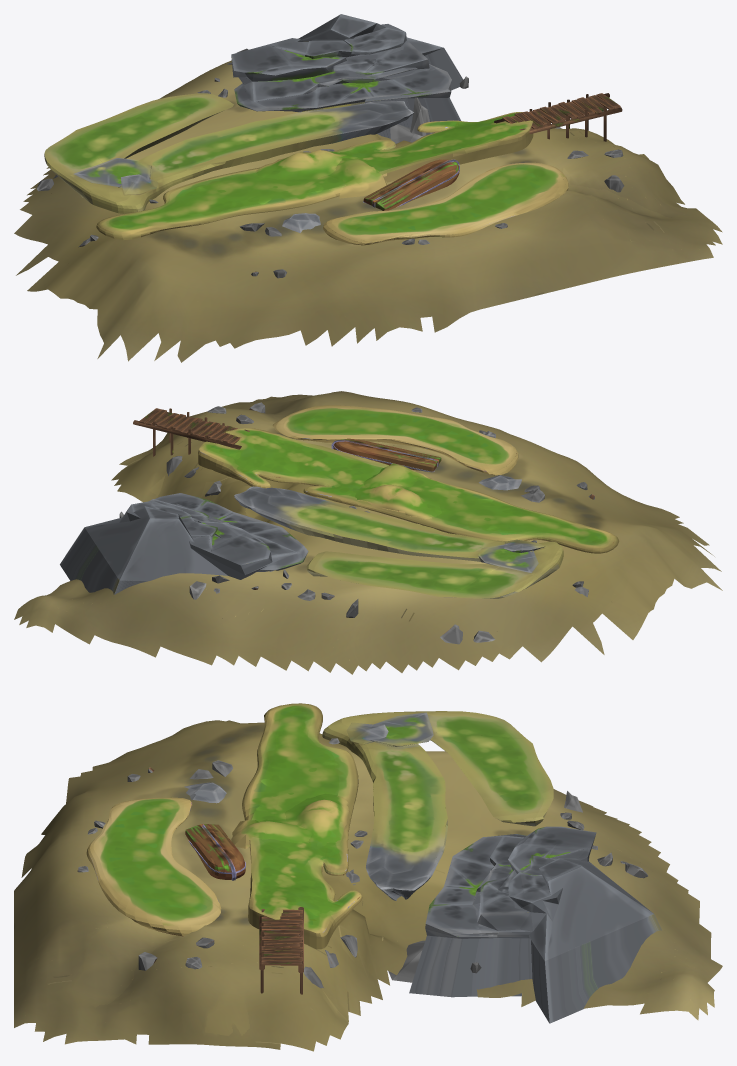
The model's file is Mid_2_Island Final.fbx.
3 views of the same model, one above another, from view 1: azimuth 30°, elevation 25°; view 2: azimuth 150°, elevation 25°; view 3: azimuth 270°, elevation 25° (orthographic). The views are drawn at different scales.
Parts seen in each view (by area): view 1: underwater sand, North and mountain, South sand, Props rocks; view 2: underwater sand, North and mountain, South sand, Props rocks; view 3: underwater sand, North and mountain, South sand, Props rocks.
Part boxes in pixels (bbox=[...]): underwater sand: bbox=[14, 60, 722, 362]; North and mountain: bbox=[44, 14, 463, 232]; South sand: bbox=[96, 112, 568, 245]; Props rocks: bbox=[36, 48, 624, 278]; underwater sand: bbox=[14, 391, 722, 674]; North and mountain: bbox=[60, 475, 563, 598]; South sand: bbox=[198, 405, 619, 553]; Props rocks: bbox=[119, 402, 594, 644]; underwater sand: bbox=[14, 720, 722, 1051]; North and mountain: bbox=[184, 711, 661, 1023]; South sand: bbox=[86, 703, 362, 949]; Props rocks: bbox=[77, 738, 647, 994].
Bounding box in the file's own units: 13535 × 2331 × 12488.
